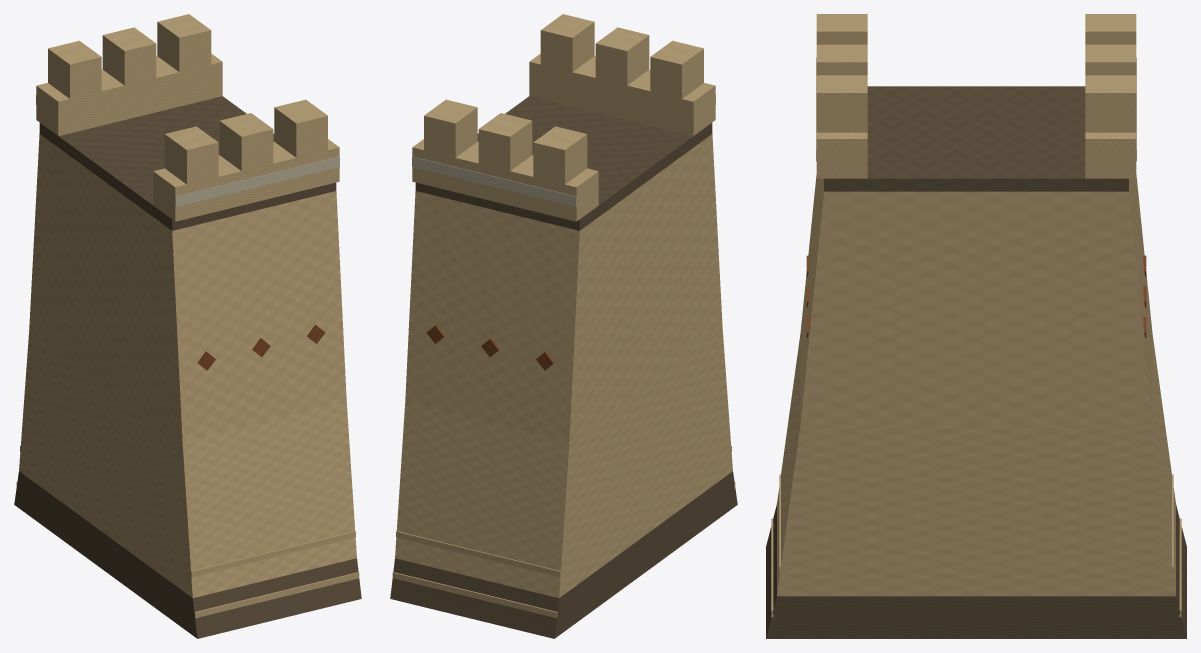
The model's file is Berber_Wall_Age4_gap_3m.fbx.
3 views of the same model, side by side, from view 1: azimuth 30°, elevation 25°; view 2: azimuth 150°, elevation 25°; view 3: azimuth 270°, elevation 25° (orthographic). The views are drawn at different scales.
Parts seen in each view (by area): view 1: gap_3m_rammed_curtain_upper, gap_3m_rammed_curtain_lower, gap_3m_battered_stone_foot, gap_3m_walk_deck, gap_3m_parapet.001, gap_3m_parapet, gap_3m_merlon, gap_3m_merlon.001, gap_3m_merlon.003, gap_3m_merlon.004, gap_3m_merlon.002, gap_3m_merlon.005 (+4 smaller); view 2: gap_3m_rammed_curtain_upper, gap_3m_rammed_curtain_lower, gap_3m_battered_stone_foot, gap_3m_walk_deck, gap_3m_parapet, gap_3m_parapet.001, gap_3m_merlon.004, gap_3m_merlon.003, gap_3m_merlon, gap_3m_merlon.005, gap_3m_merlon.002, gap_3m_merlon.001 (+4 smaller); view 3: gap_3m_rammed_curtain_upper, gap_3m_rammed_curtain_lower, gap_3m_walk_deck, gap_3m_battered_stone_foot, gap_3m_merlon.005, gap_3m_merlon.002, gap_3m_parapet.001, gap_3m_parapet, gap_3m_merlon.004, gap_3m_merlon.001, gap_3m_merlon, gap_3m_merlon.003.
Part boxes in pixels (box(x1,y1,x2,y2)): gap_3m_rammed_curtain_upper: box(29, 134, 346, 441); gap_3m_rammed_curtain_lower: box(19, 330, 356, 597); gap_3m_battered_stone_foot: box(14, 471, 361, 638); gap_3m_walk_deck: box(39, 96, 336, 230); gap_3m_parapet.001: box(36, 53, 222, 135); gap_3m_parapet: box(153, 139, 339, 221); gap_3m_merlon: box(164, 126, 218, 184); gap_3m_merlon.001: box(219, 113, 273, 170); gap_3m_merlon.003: box(48, 40, 101, 98); gap_3m_merlon.004: box(102, 27, 156, 85); gap_3m_merlon.002: box(274, 100, 327, 157); gap_3m_merlon.005: box(157, 14, 211, 72); gap_3m_rammed_curtain_upper: box(405, 134, 722, 441); gap_3m_rammed_curtain_lower: box(395, 330, 732, 597); gap_3m_battered_stone_foot: box(390, 471, 737, 638); gap_3m_walk_deck: box(415, 96, 712, 230); gap_3m_parapet: box(529, 53, 715, 135); gap_3m_parapet.001: box(412, 139, 598, 221); gap_3m_merlon.004: box(478, 113, 532, 170); gap_3m_merlon.003: box(533, 126, 587, 184); gap_3m_merlon: box(650, 40, 703, 98); gap_3m_merlon.005: box(424, 99, 477, 157); gap_3m_merlon.002: box(540, 14, 594, 72); gap_3m_merlon.001: box(595, 27, 649, 85); gap_3m_rammed_curtain_upper: box(800, 175, 1152, 425); gap_3m_rammed_curtain_lower: box(777, 335, 1175, 596); gap_3m_walk_deck: box(824, 86, 1128, 191); gap_3m_battered_stone_foot: box(766, 504, 1186, 638); gap_3m_merlon.005: box(1085, 75, 1136, 132); gap_3m_merlon.002: box(816, 75, 867, 132); gap_3m_parapet.001: box(1085, 132, 1136, 178); gap_3m_parapet: box(816, 132, 867, 178); gap_3m_merlon.004: box(1085, 44, 1136, 75); gap_3m_merlon.001: box(816, 44, 867, 75); gap_3m_merlon: box(816, 14, 867, 44); gap_3m_merlon.003: box(1085, 14, 1136, 44).
Bounding box in the file's own units: 300 × 820 × 580.
4 materials, 4 textured.
